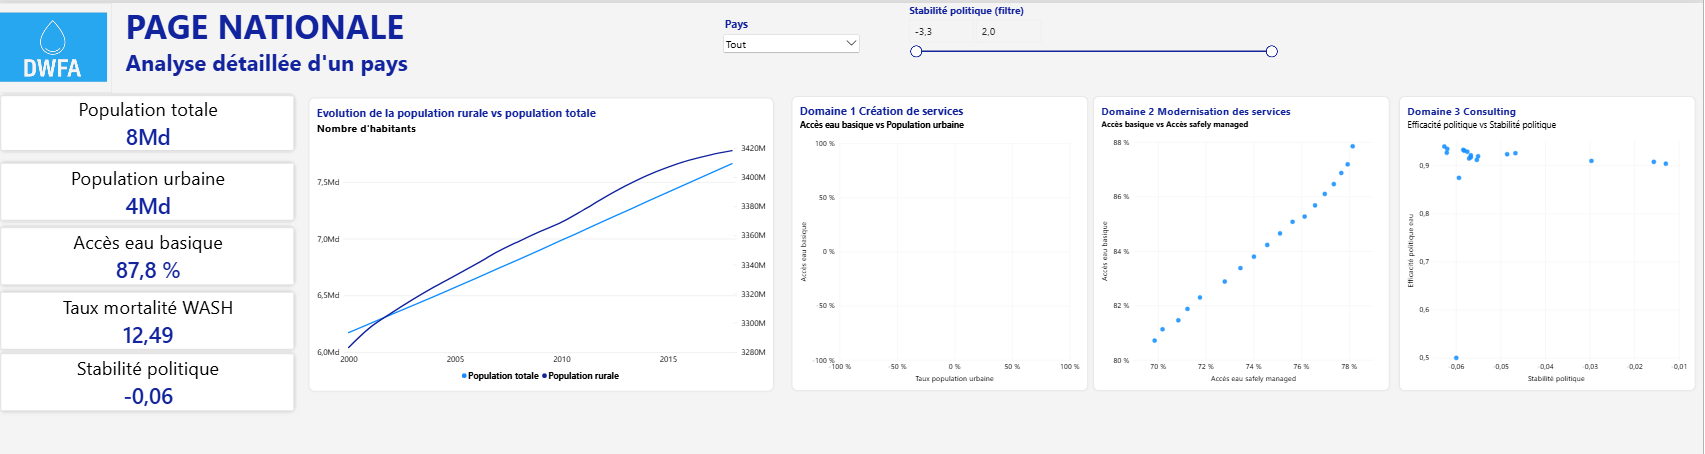

This screenshot's page, from the dashboard's own definition file:
{"tool":"powerbi","page":{"name":"PAGE nationale","canvas":[3700,1000],"ordinal":2},"visuals":[{"type":"lineChart","title":"Evolution de la population rurale vs population totale","fields":{"Category":["DimYear.Year"],"Y2":["_Mesure.Population rurale"],"Y":["_Mesure.Population totale"]},"box":[672.5,205,1009.5,638.1],"z":0},{"type":"scatterChart","title":"Domaine 1 Création de services","fields":{"Category":["DimYear.Year"],"Y":["_Mesure.Accès eau basique"],"X":["_Mesure.Taux population urbaine"]},"box":[1720,202.5,643.3,640],"z":1000},{"type":"shape","box":[0,0,1591.2,170.6],"z":2000},{"type":"textbox","box":[276.5,0,1229.4,170.6],"z":3000},{"type":"image","box":[0,0,246.2,196.2],"z":4000},{"type":"slicer","fields":{"Values":["PoliticalStability.Political_Stability"]},"box":[1969.2,0,810.5,147.4],"z":5000},{"type":"cardVisual","fields":{"Data":["_Mesure.Population totale"]},"box":[0,195,647.5,130],"z":6000},{"type":"cardVisual","fields":{"Data":["_Mesure.Population urbaine"]},"box":[0,342,647,135],"z":7000},{"type":"cardVisual","fields":{"Data":["_Mesure.Accès eau basique"]},"box":[0,482,647,135],"z":8000},{"type":"cardVisual","fields":{"Data":["_Mesure.Taux mortalité WASH"]},"box":[0,622,647,135],"z":9000},{"type":"cardVisual","fields":{"Data":["_Mesure.Stabilité politique"]},"box":[0,756,647,135],"z":10000},{"type":"scatterChart","title":"Domaine 2 Modernisation des services","fields":{"Y":["_Mesure.Accès eau basique"],"X":["_Mesure.Accès eau safely managed"],"Category":["DimYear.Year"]},"box":[2375,202.5,643.3,640],"z":11000},{"type":"scatterChart","title":"Domaine 3 Consulting","fields":{"Category":["DimYear.Year"],"Y":["_Mesure.Efficacité politique eau"],"X":["_Mesure.Stabilité politique"]},"box":[3037.5,202.5,643.3,640],"z":12000},{"type":"slicer","fields":{"Values":["Population.Country"]},"box":[1567.6,29.4,305.7,111.3],"z":13000}]}

Visuals, with their boxes in screenshot pixels (x1, y1, x2, y2), scaled from the page's 3700x1000 canvas onto the 1705x454 screenshot:
"Evolution de la population rurale vs population totale" lineChart: (310,93,775,383)
"Domaine 1 Création de services" scatterChart: (793,92,1089,382)
shape: (0,0,733,77)
textbox: (127,0,694,77)
image: (0,0,113,89)
slicer - PoliticalStability.Political_Stability: (907,0,1281,67)
cardVisual - _Mesure.Population totale: (0,89,298,148)
cardVisual - _Mesure.Population urbaine: (0,155,298,217)
cardVisual - _Mesure.Accès eau basique: (0,219,298,280)
cardVisual - _Mesure.Taux mortalité WASH: (0,282,298,344)
cardVisual - _Mesure.Stabilité politique: (0,343,298,405)
"Domaine 2 Modernisation des services" scatterChart: (1094,92,1391,382)
"Domaine 3 Consulting" scatterChart: (1400,92,1696,382)
slicer - Population.Country: (722,13,863,64)
